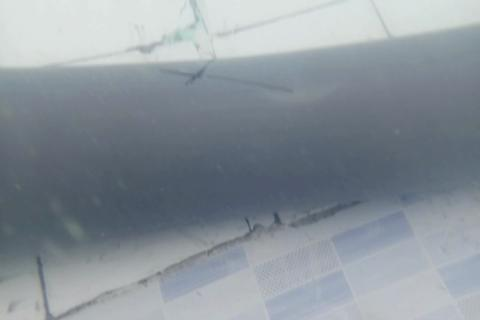keretakan: (159, 64, 292, 95)
